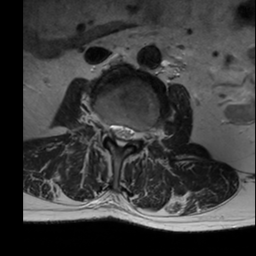CCS_normal: (119, 118, 127, 151)
LFS_normal: (135, 122, 142, 146)
LLS_normal: (127, 120, 135, 147)
RFS_normal: (103, 117, 111, 142)
RLS_normal: (111, 118, 119, 145)
